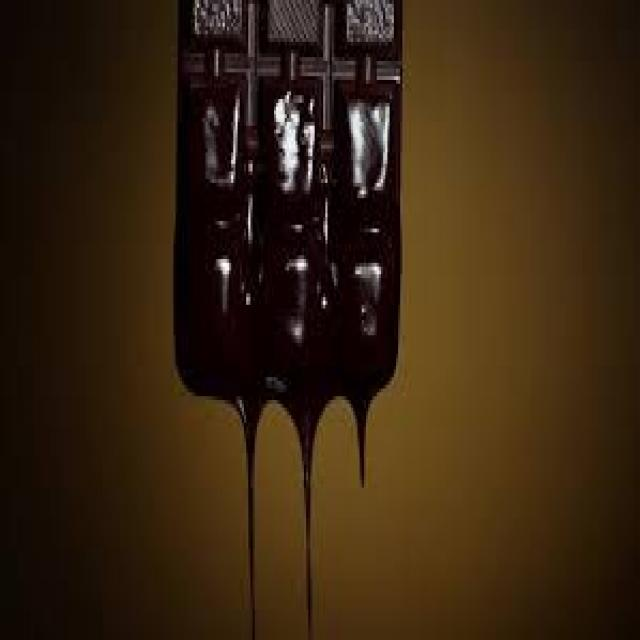chocolate: (173, 0, 400, 398)
